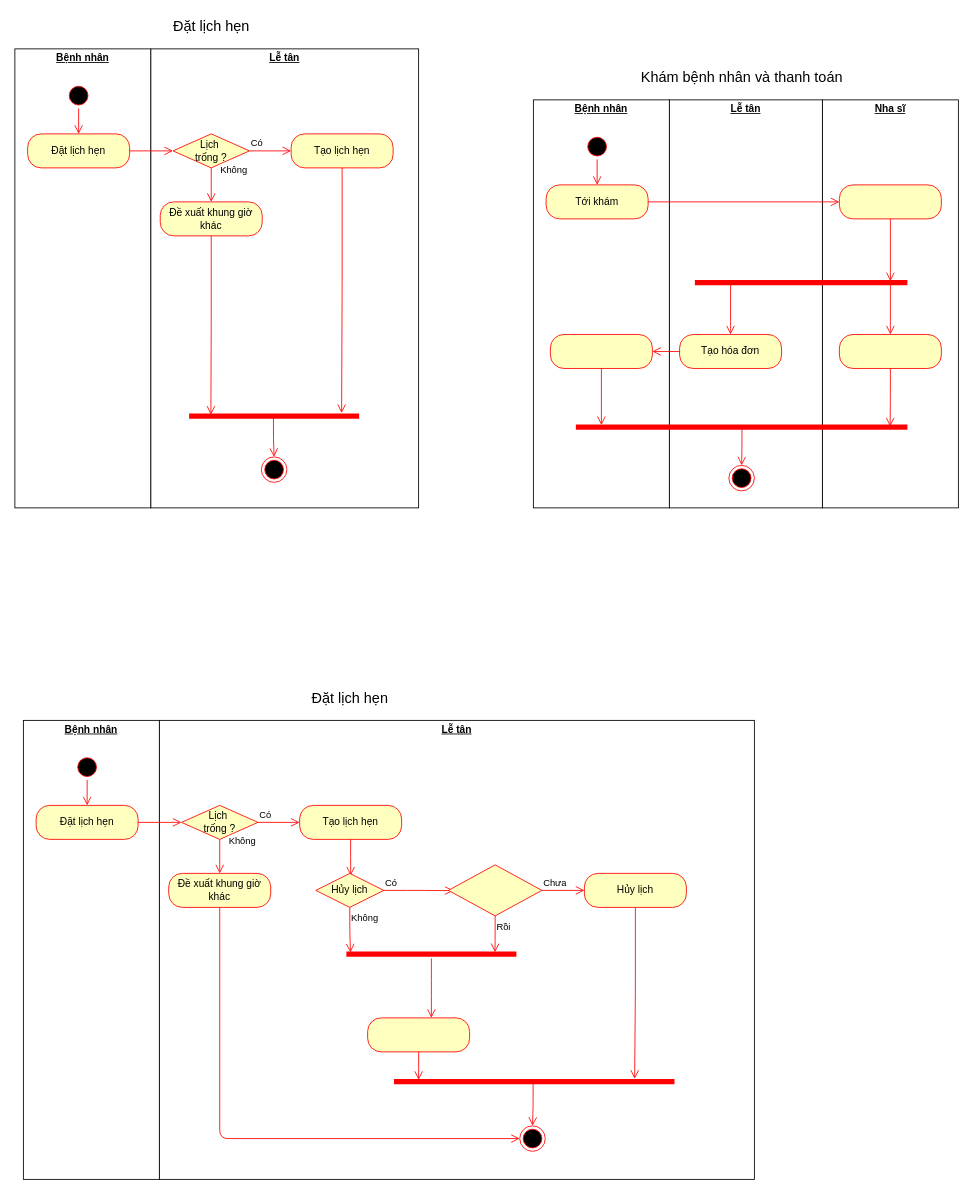
The diagram is 973 pixels wide and 1194 high, and some of its shapes have lost their labels. The shapes that lost their labels are listed below. From the top down, each one's centre as x and y in pixels, then its label:
pixel 890 201: Khám bệnh, chuẩn đoán
pixel 601 351: Bệnh nhân thanh toán
pixel 890 351: Ghi hồ sơ
pixel 495 890: Lịch "Đã Khám" ?
pixel 418 1034: Giữ nguyên lịch
